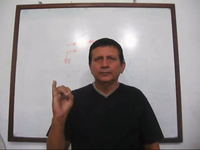oi: (50, 78, 74, 113)
